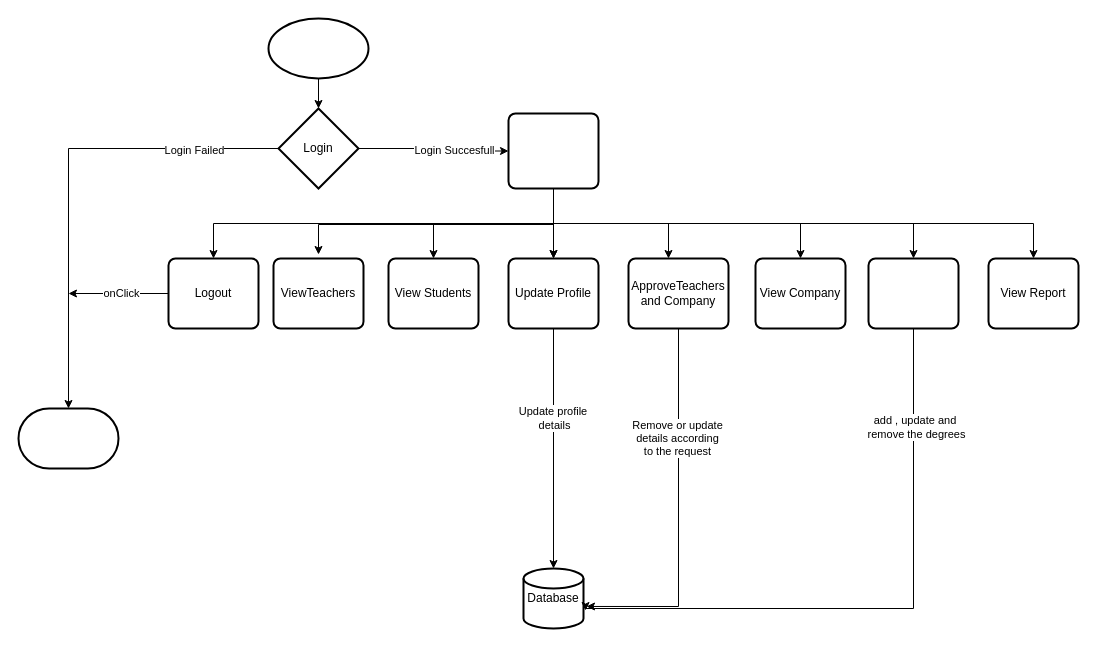
The diagram is 1096 pixels wide and 646 high, and some of its shapes have lost their labels. The box of each missing label's shape, as (x1, y1, x2, y2) in pixels:
Add Degrees and update and remove: (867, 257, 959, 329)
Admin: (267, 17, 369, 79)
Admin Dashboard: (507, 112, 599, 189)
Stop: (17, 407, 119, 469)
